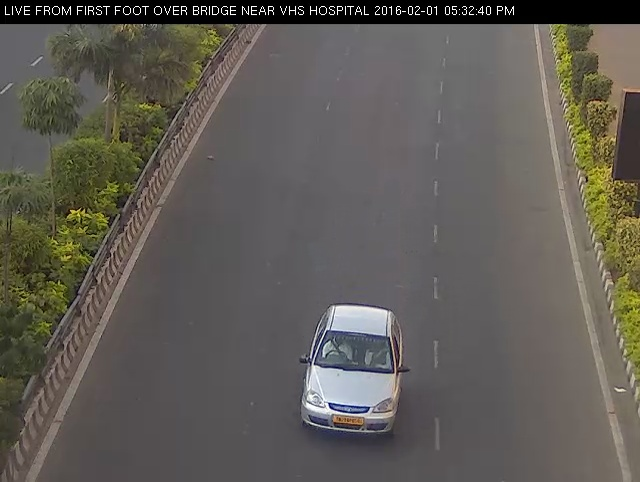Car: (285, 295, 421, 452)
